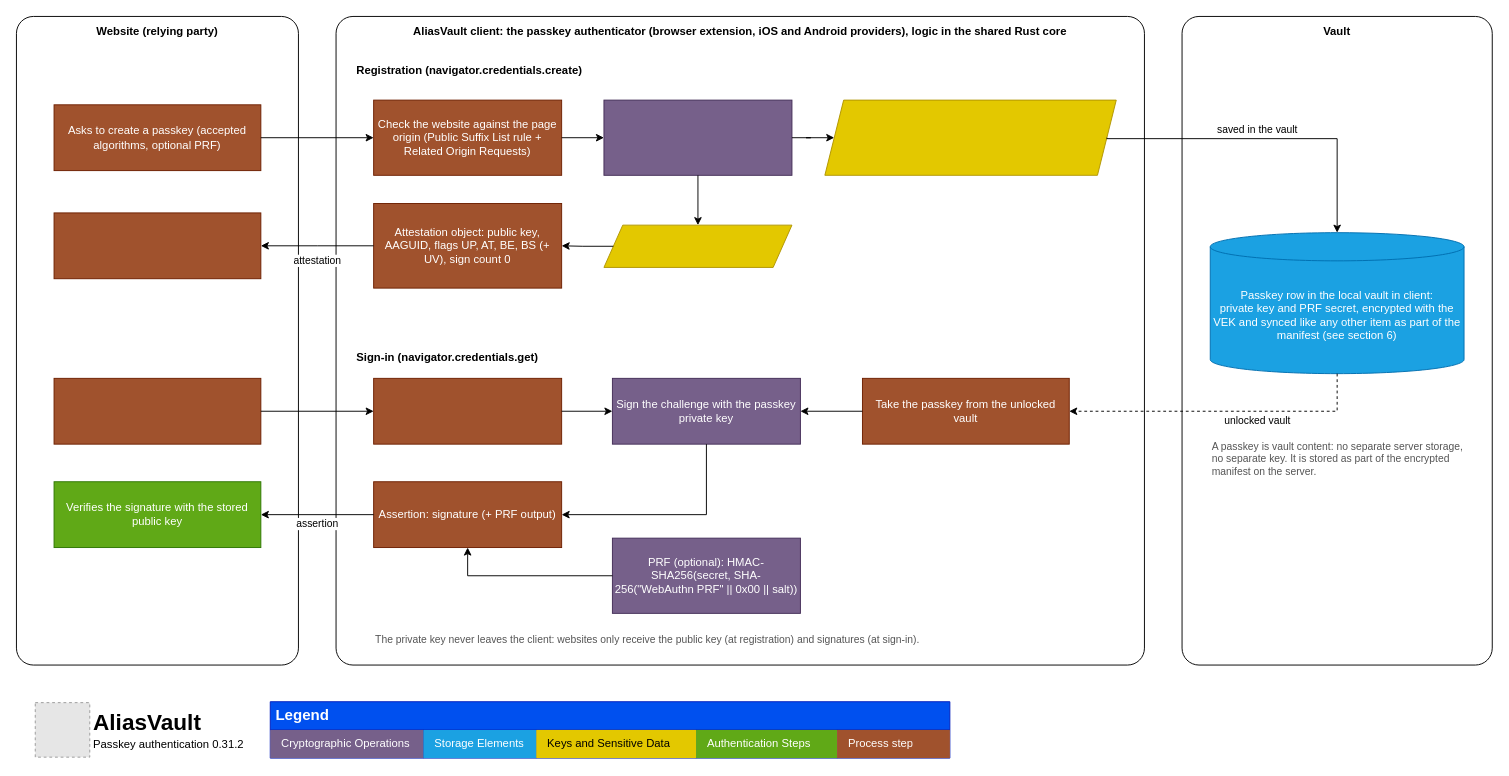
The diagram is 1509 pixels wide and 776 high, and some of its shapes have lost their labels. Grey dashed boxes stand in for pictures. The centre of each missing label's shape, as x and y in pixels:
"Asks to sign in: random challenge (+ PRF salt)" goes at [157,410].
"Check the website against the page origin" goes at [467,410].
"Create a keypair: ES256 (P-256) or RS256 (RSA-2048)" goes at [697,137].
"Passkey private key (+ random 32-byte PRF secret, when asked)" goes at [970,137].
"Passkey public key" goes at [697,245].
"Stores the public key with the user's account" goes at [157,245].
